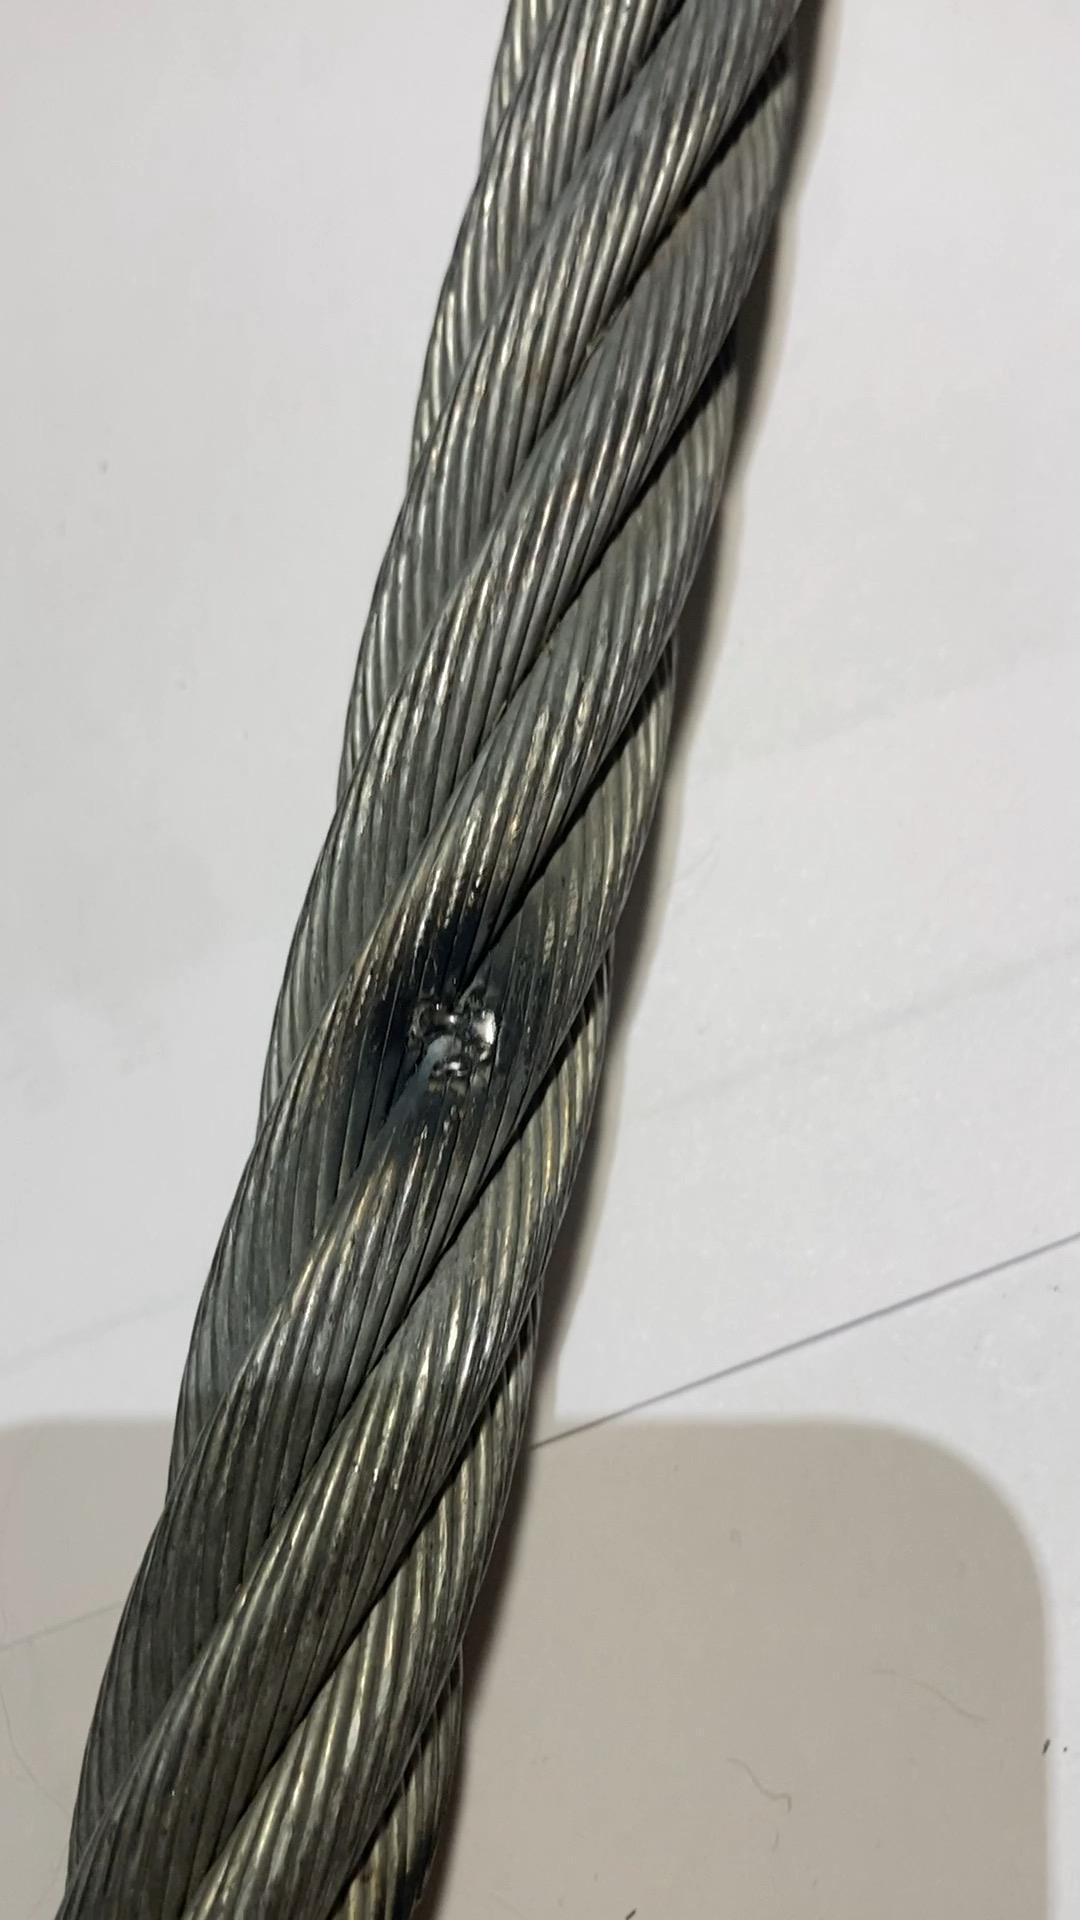thunderbolt: (377, 945, 537, 1120)
